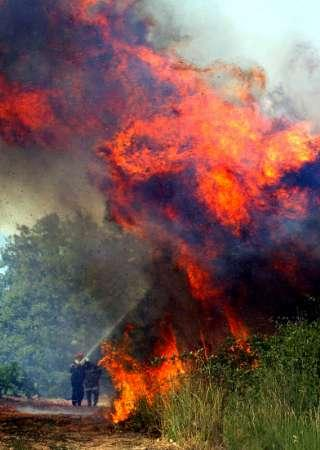fire: (161, 65, 289, 206), (16, 89, 164, 169), (112, 360, 181, 401)
smoke: (8, 209, 108, 344)
